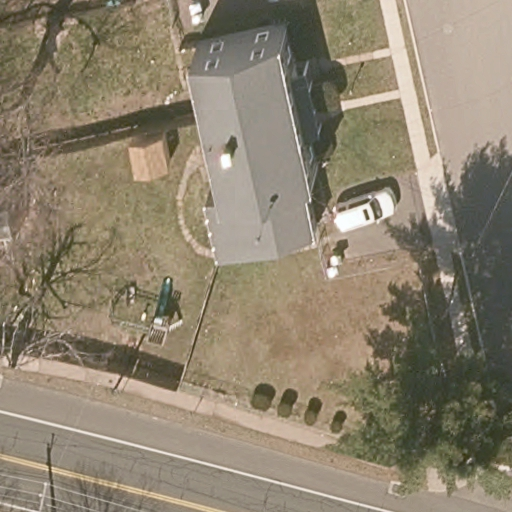DT: (34, 482, 53, 512)
